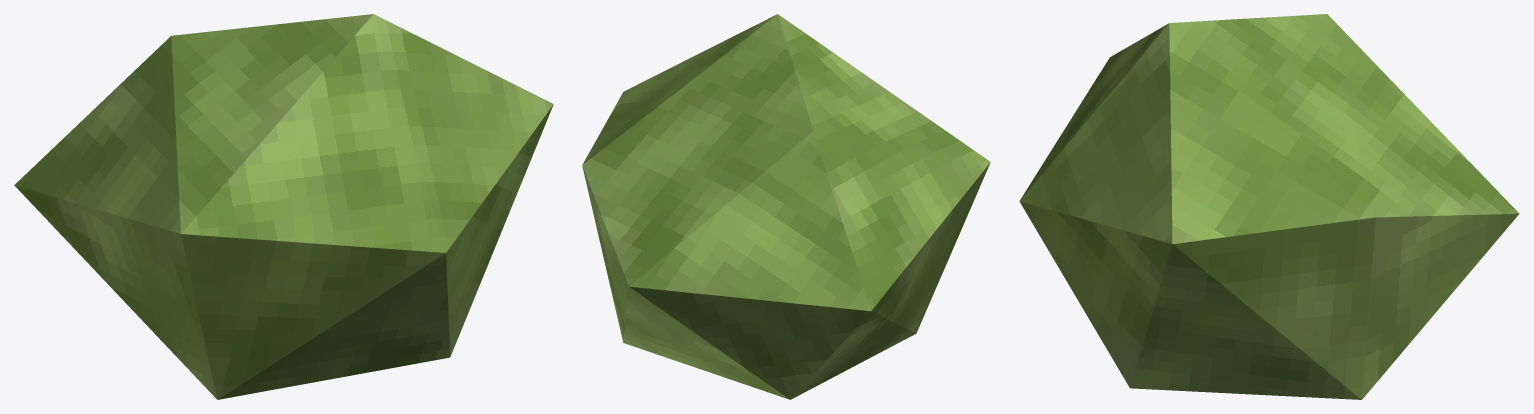
File: bush2_fbx.fbx
3 renders of one model, left to right at view 1: azimuth 30°, elevation 25°; view 2: azimuth 150°, elevation 25°; view 3: azimuth 270°, elevation 25°, orthographic. The views are drawn at different scales.
Visible parts, largest first — view 1: bush2; view 2: bush2; view 3: bush2.
Boxes of the visible parts, x1,y1,x2,y2 form: bush2: [14, 14, 553, 399]; bush2: [582, 14, 990, 399]; bush2: [1019, 14, 1519, 399].
Bounding box in the file's own units: 154 × 122 × 163.
1 material, 1 textured.
